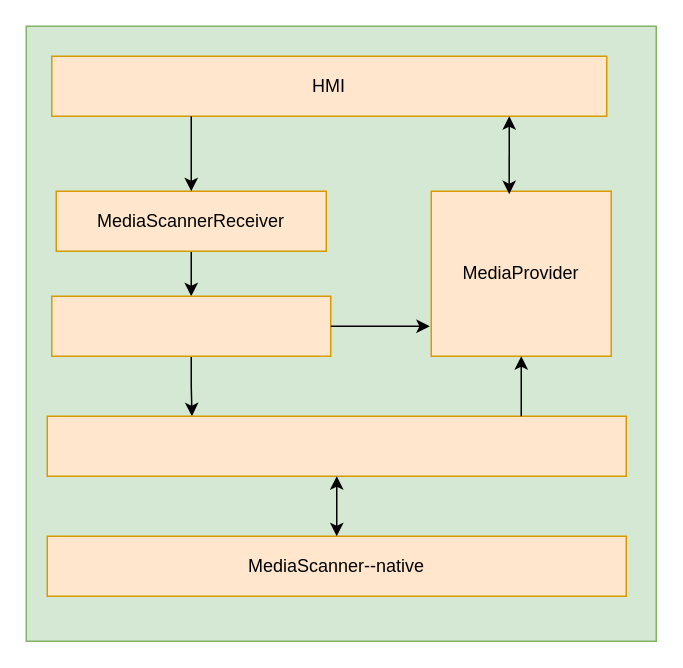
Image size: 683x668. Some labels were removed from this diagram. The centre of each missing label's shape, as x and y in pixels:
"MediaScanner--java" goes at (336,445).
"MediaScannerService" goes at (190,325).
